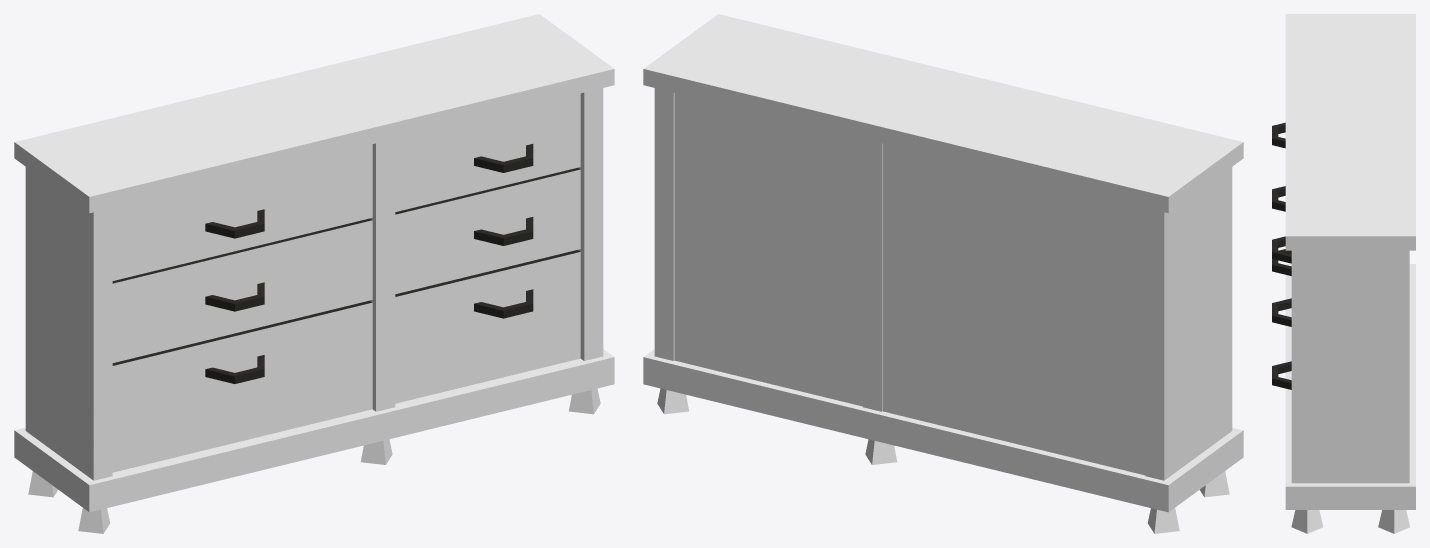
Rendered from Drawer_4A.fbx.
3 renders of one model, left to right at view 1: azimuth 30°, elevation 25°; view 2: azimuth 150°, elevation 25°; view 3: azimuth 270°, elevation 25°, orthographic. The views are drawn at different scales.
Visible parts, largest first — view 1: polySurface1503; view 2: polySurface1503; view 3: polySurface1503.
Boxes of the visible parts, x1=… form: polySurface1503: x1=14, y1=14, x2=614, y2=533; polySurface1503: x1=643, y1=14, x2=1243, y2=533; polySurface1503: x1=1272, y1=14, x2=1415, y2=533.
Size of the model in its own units: 3.03 by 1.9 by 0.8282.
Materials: 1 (1 with a texture image).
